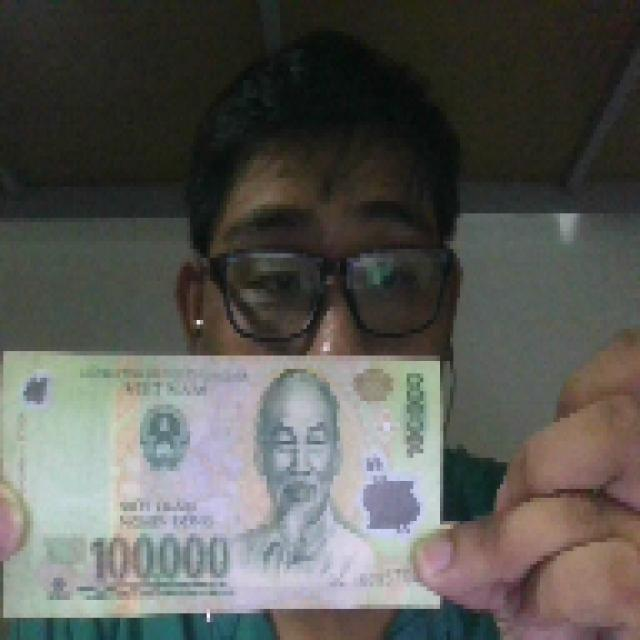100 000 VND: (0, 342, 450, 622)
